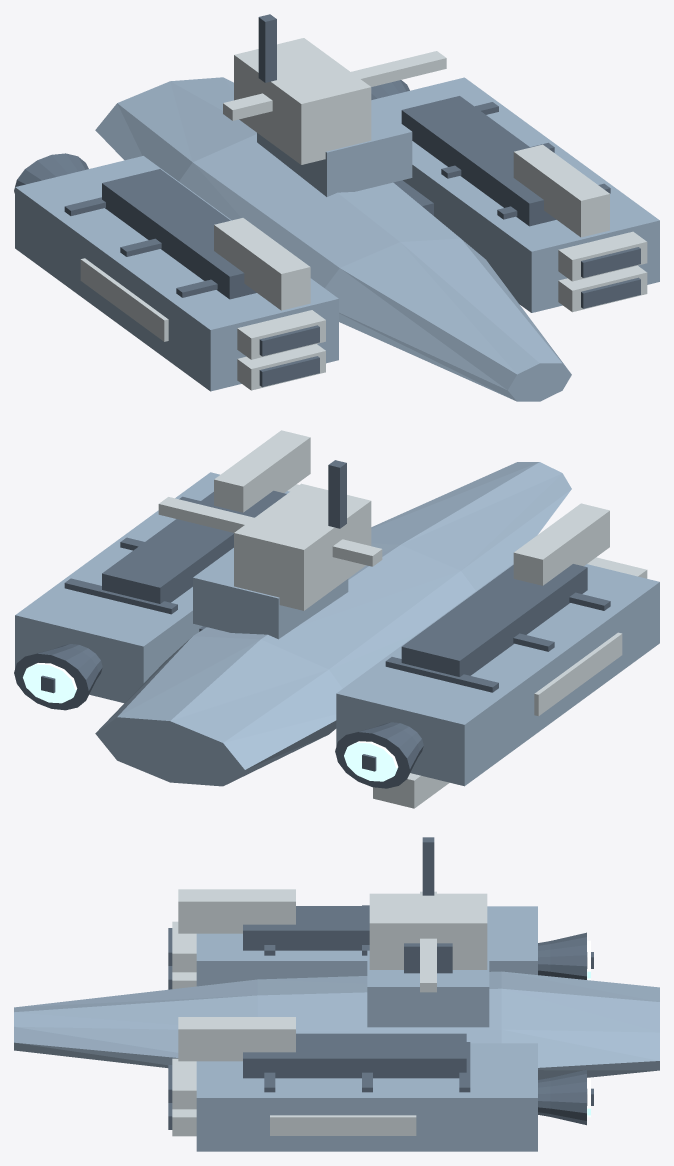
The picture shows the model from 3 angles, top to bottom: view 1: azimuth 30°, elevation 25°; view 2: azimuth 150°, elevation 25°; view 3: azimuth 270°, elevation 25°; orthographic projection. The views are drawn at different scales.
Size of the model in its own units: 15.72 by 9.01 by 21.98.
